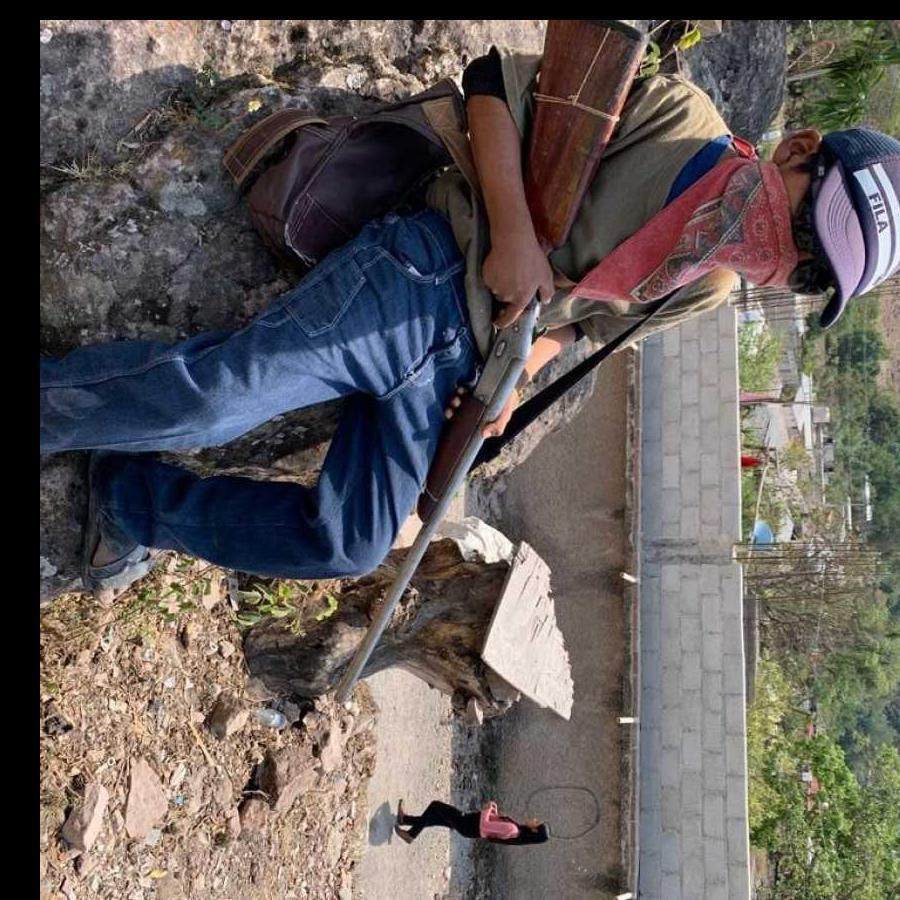larga: (331, 23, 649, 711)
